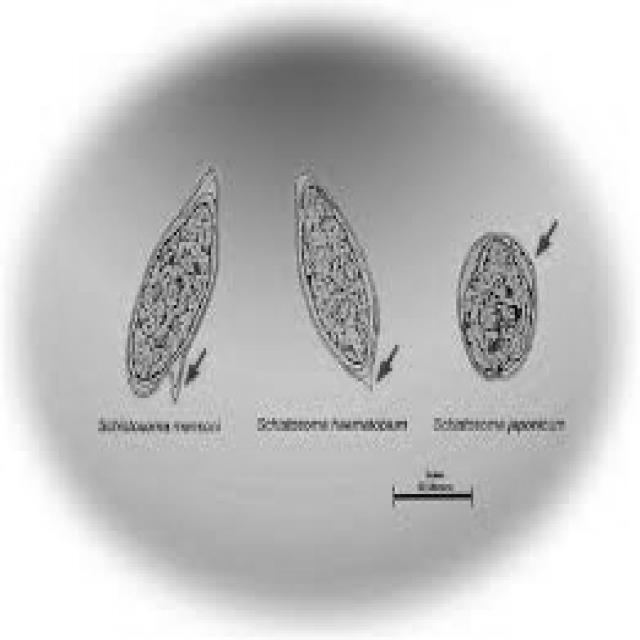Schistosoma: (118, 156, 223, 404), (287, 159, 385, 398), (451, 224, 540, 386)
